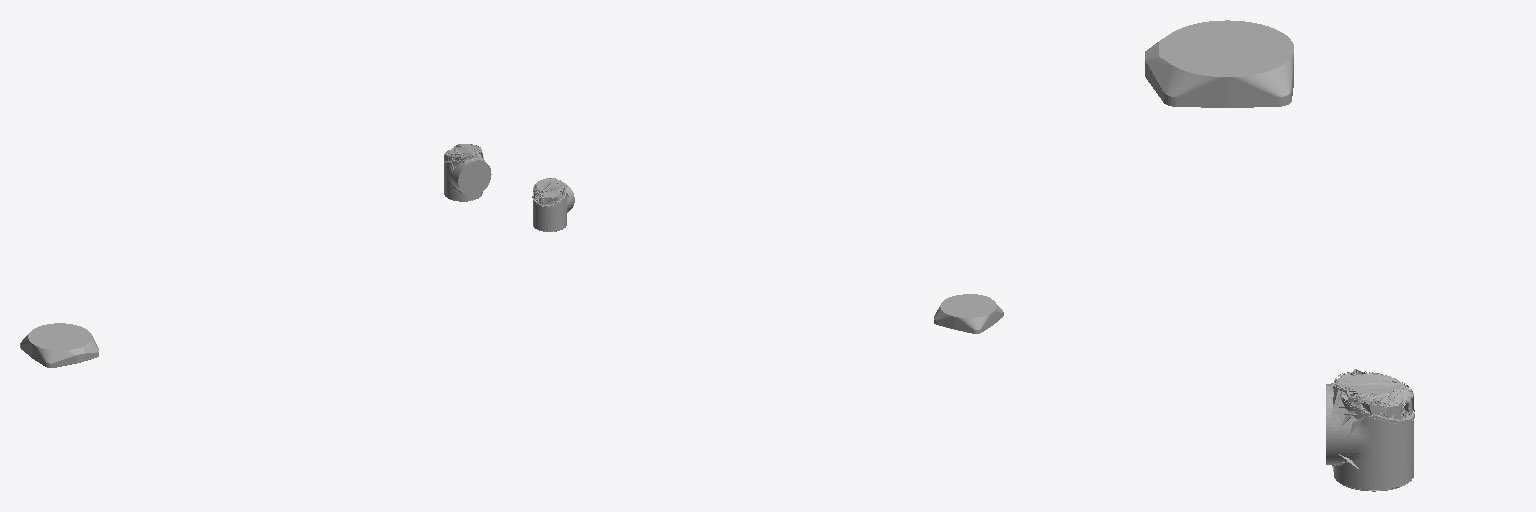
The robot description file, URDF, robot "ur10":
<?xml version="1.0" encoding="utf-8"?>
<!-- =================================================================================== -->
<!-- |    This document was autogenerated by xacro from ur10_joint_limited_robot.urdf.xacro | -->
<!-- |    EDITING THIS FILE BY HAND IS NOT RECOMMENDED                                 | -->
<!-- =================================================================================== -->
<robot name="ur10" xmlns:xacro="http://wiki.ros.org/xacro">
  <gazebo>
    <plugin filename="libgazebo_ros_control.so" name="ros_control">
      <!--robotNamespace>/</robotNamespace-->
      <!--robotSimType>gazebo_ros_control/DefaultRobotHWSim</robotSimType-->
    </plugin>
    <!--
    <plugin name="gazebo_ros_power_monitor_controller" filename="libgazebo_ros_power_monitor.so">
      <alwaysOn>true</alwaysOn>
      <updateRate>1.0</updateRate>
      <timeout>5</timeout>
      <powerStateTopic>power_state</powerStateTopic>
      <powerStateRate>10.0</powerStateRate>
      <fullChargeCapacity>87.78</fullChargeCapacity>
      <dischargeRate>-474</dischargeRate>
      <chargeRate>525</chargeRate>
      <dischargeVoltage>15.52</dischargeVoltage>
      <chargeVoltage>16.41</chargeVoltage>
    </plugin>
-->
  </gazebo>
  <!--
  Author: [author]
  Contributers: [author], [author], [author]
-->
  <!-- measured from model -->
  <link name="base_link">
    <visual>
      <geometry>
        <mesh filename="package://example-robot-data/robots/ur_description/meshes/ur10/visual/base.obj"/>
      </geometry>
      <material name="LightGrey">
        <color rgba="0.7 0.7 0.7 1.0"/>
      </material>
    </visual>
    <collision>
      <geometry>
        <mesh filename="package://example-robot-data/robots/ur_description/meshes/ur10/collision/base.obj"/>
      </geometry>
    </collision>
    <inertial>
      <mass value="4.0"/>
      <origin rpy="0 0 0" xyz="0.0 0.0 0.0"/>
      <inertia ixx="0.0061063308908" ixy="0.0" ixz="0.0" iyy="0.0061063308908" iyz="0.0" izz="0.01125"/>
    </inertial>
  </link>
  <joint name="shoulder_pan_joint" type="revolute">
    <parent link="base_link"/>
    <child link="shoulder_link"/>
    <origin rpy="0.0 0.0 0.0" xyz="0.0 0.0 0.1273"/>
    <axis xyz="0 0 1"/>
    <limit effort="330.0" lower="-3.14159265359" upper="3.14159265359" velocity="2.16"/>
    <dynamics damping="0.0" friction="0.0"/>
  </joint>
  <link name="shoulder_link">
    <visual>
      <geometry>
        <mesh filename="package://example-robot-data/robots/ur_description/meshes/ur10/visual/shoulder.obj"/>
      </geometry>
      <material name="LightGrey">
        <color rgba="0.7 0.7 0.7 1.0"/>
      </material>
    </visual>
    <collision>
      <geometry>
        <mesh filename="package://example-robot-data/robots/ur_description/meshes/ur10/collision/shoulder.obj"/>
      </geometry>
    </collision>
    <inertial>
      <mass value="7.778"/>
      <origin rpy="0 0 0" xyz="0.0 0.0 0.0"/>
      <inertia ixx="0.0314743125769" ixy="0.0" ixz="0.0" iyy="0.0314743125769" iyz="0.0" izz="0.021875625"/>
    </inertial>
  </link>
  <joint name="shoulder_lift_joint" type="revolute">
    <parent link="shoulder_link"/>
    <child link="upper_arm_link"/>
    <origin rpy="0.0 1.57079632679 0.0" xyz="0.0 0.220941 0.0"/>
    <axis xyz="0 1 0"/>
    <limit effort="330.0" lower="-3.14159265359" upper="3.14159265359" velocity="2.16"/>
    <dynamics damping="0.0" friction="0.0"/>
  </joint>
  <link name="upper_arm_link">
    <visual>
      <geometry>
        <mesh filename="package://example-robot-data/robots/ur_description/meshes/ur10/visual/upperarm.obj"/>
      </geometry>
      <material name="LightGrey">
        <color rgba="0.7 0.7 0.7 1.0"/>
      </material>
    </visual>
    <collision>
      <geometry>
        <mesh filename="package://example-robot-data/robots/ur_description/meshes/ur10/collision/upperarm.obj"/>
      </geometry>
    </collision>
    <inertial>
      <mass value="12.93"/>
      <origin rpy="0 0 0" xyz="0.0 0.0 0.306"/>
      <inertia ixx="0.421753803798" ixy="0.0" ixz="0.0" iyy="0.421753803798" iyz="0.0" izz="0.036365625"/>
    </inertial>
  </link>
  <joint name="elbow_joint" type="revolute">
    <parent link="upper_arm_link"/>
    <child link="forearm_link"/>
    <origin rpy="0.0 0.0 0.0" xyz="0.0 -0.1719 0.612"/>
    <axis xyz="0 1 0"/>
    <limit effort="150.0" lower="-3.14159265359" upper="3.14159265359" velocity="3.15"/>
    <dynamics damping="0.0" friction="0.0"/>
  </joint>
  <link name="forearm_link">
    <visual>
      <geometry>
        <mesh filename="package://example-robot-data/robots/ur_description/meshes/ur10/visual/forearm.obj"/>
      </geometry>
      <material name="LightGrey">
        <color rgba="0.7 0.7 0.7 1.0"/>
      </material>
    </visual>
    <collision>
      <geometry>
        <mesh filename="package://example-robot-data/robots/ur_description/meshes/ur10/collision/forearm.obj"/>
      </geometry>
    </collision>
    <inertial>
      <mass value="3.87"/>
      <origin rpy="0 0 0" xyz="0.0 0.0 0.28615"/>
      <inertia ixx="0.111069694097" ixy="0.0" ixz="0.0" iyy="0.111069694097" iyz="0.0" izz="0.010884375"/>
    </inertial>
  </link>
  <joint name="wrist_1_joint" type="revolute">
    <parent link="forearm_link"/>
    <child link="wrist_1_link"/>
    <origin rpy="0.0 1.57079632679 0.0" xyz="0.0 0.0 0.5723"/>
    <axis xyz="0 1 0"/>
    <limit effort="54.0" lower="-3.14159265359" upper="3.14159265359" velocity="3.2"/>
    <dynamics damping="0.0" friction="0.0"/>
  </joint>
  <link name="wrist_1_link">
    <visual>
      <geometry>
        <mesh filename="package://example-robot-data/robots/ur_description/meshes/ur10/visual/wrist1.obj"/>
      </geometry>
      <material name="LightGrey">
        <color rgba="0.7 0.7 0.7 1.0"/>
      </material>
    </visual>
    <collision>
      <geometry>
        <mesh filename="package://example-robot-data/robots/ur_description/meshes/ur10/collision/wrist1.obj"/>
      </geometry>
    </collision>
    <inertial>
      <mass value="1.96"/>
      <origin rpy="0 0 0" xyz="0.0 0.0 0.0"/>
      <inertia ixx="0.0051082479567" ixy="0.0" ixz="0.0" iyy="0.0051082479567" iyz="0.0" izz="0.0055125"/>
    </inertial>
  </link>
  <joint name="wrist_2_joint" type="revolute">
    <parent link="wrist_1_link"/>
    <child link="wrist_2_link"/>
    <origin rpy="0.0 0.0 0.0" xyz="0.0 0.1149 0.0"/>
    <axis xyz="0 0 1"/>
    <limit effort="54.0" lower="-3.14159265359" upper="3.14159265359" velocity="3.2"/>
    <dynamics damping="0.0" friction="0.0"/>
  </joint>
  <link name="wrist_2_link">
    <visual>
      <geometry>
        <mesh filename="package://example-robot-data/robots/ur_description/meshes/ur10/visual/wrist2.obj"/>
      </geometry>
      <material name="LightGrey">
        <color rgba="0.7 0.7 0.7 1.0"/>
      </material>
    </visual>
    <collision>
      <geometry>
        <mesh filename="package://example-robot-data/robots/ur_description/meshes/ur10/collision/wrist2.obj"/>
      </geometry>
    </collision>
    <inertial>
      <mass value="1.96"/>
      <origin rpy="0 0 0" xyz="0.0 0.0 0.0"/>
      <inertia ixx="0.0051082479567" ixy="0.0" ixz="0.0" iyy="0.0051082479567" iyz="0.0" izz="0.0055125"/>
    </inertial>
  </link>
  <joint name="wrist_3_joint" type="revolute">
    <parent link="wrist_2_link"/>
    <child link="wrist_3_link"/>
    <origin rpy="0.0 0.0 0.0" xyz="0.0 0.0 0.1157"/>
    <axis xyz="0 1 0"/>
    <limit effort="54.0" lower="-3.14159265359" upper="3.14159265359" velocity="3.2"/>
    <dynamics damping="0.0" friction="0.0"/>
  </joint>
  <link name="wrist_3_link">
    <visual>
      <geometry>
        <mesh filename="package://example-robot-data/robots/ur_description/meshes/ur10/visual/wrist3.obj"/>
      </geometry>
      <material name="LightGrey">
        <color rgba="0.7 0.7 0.7 1.0"/>
      </material>
    </visual>
    <collision>
      <geometry>
        <mesh filename="package://example-robot-data/robots/ur_description/meshes/ur10/collision/wrist3.obj"/>
      </geometry>
    </collision>
    <inertial>
      <mass value="0.202"/>
      <origin rpy="0 0 0" xyz="0.0 0.0 0.0"/>
      <inertia ixx="0.000526462289415" ixy="0.0" ixz="0.0" iyy="0.000526462289415" iyz="0.0" izz="0.000568125"/>
    </inertial>
  </link>
  <joint name="ee_fixed_joint" type="fixed">
    <parent link="wrist_3_link"/>
    <child link="ee_link"/>
    <origin rpy="0.0 0.0 1.57079632679" xyz="0.0 0.0922 0.0"/>
  </joint>
  <link name="ee_link">
    <inertial>
      <mass value="0.0"/>
      <origin rpy="0 0 0" xyz="0 0 0"/>
      <inertia ixx="0" ixy="0" ixz="0" iyy="0" iyz="0" izz="0"/>
    </inertial>
    <collision>
      <geometry>
        <box size="0.01 0.01 0.01"/>
      </geometry>
      <origin rpy="0 0 0" xyz="-0.01 0 0"/>
    </collision>
  </link>
  <transmission name="shoulder_pan_trans">
    <type>transmission_interface/SimpleTransmission</type>
    <joint name="shoulder_pan_joint">
      <hardwareInterface>hardware_interface/PositionJointInterface</hardwareInterface>
    </joint>
    <actuator name="shoulder_pan_motor">
      <mechanicalReduction>1</mechanicalReduction>
    </actuator>
  </transmission>
  <transmission name="shoulder_lift_trans">
    <type>transmission_interface/SimpleTransmission</type>
    <joint name="shoulder_lift_joint">
      <hardwareInterface>hardware_interface/PositionJointInterface</hardwareInterface>
    </joint>
    <actuator name="shoulder_lift_motor">
      <mechanicalReduction>1</mechanicalReduction>
    </actuator>
  </transmission>
  <transmission name="elbow_trans">
    <type>transmission_interface/SimpleTransmission</type>
    <joint name="elbow_joint">
      <hardwareInterface>hardware_interface/PositionJointInterface</hardwareInterface>
    </joint>
    <actuator name="elbow_motor">
      <mechanicalReduction>1</mechanicalReduction>
    </actuator>
  </transmission>
  <transmission name="wrist_1_trans">
    <type>transmission_interface/SimpleTransmission</type>
    <joint name="wrist_1_joint">
      <hardwareInterface>hardware_interface/PositionJointInterface</hardwareInterface>
    </joint>
    <actuator name="wrist_1_motor">
      <mechanicalReduction>1</mechanicalReduction>
    </actuator>
  </transmission>
  <transmission name="wrist_2_trans">
    <type>transmission_interface/SimpleTransmission</type>
    <joint name="wrist_2_joint">
      <hardwareInterface>hardware_interface/PositionJointInterface</hardwareInterface>
    </joint>
    <actuator name="wrist_2_motor">
      <mechanicalReduction>1</mechanicalReduction>
    </actuator>
  </transmission>
  <transmission name="wrist_3_trans">
    <type>transmission_interface/SimpleTransmission</type>
    <joint name="wrist_3_joint">
      <hardwareInterface>hardware_interface/PositionJointInterface</hardwareInterface>
    </joint>
    <actuator name="wrist_3_motor">
      <mechanicalReduction>1</mechanicalReduction>
    </actuator>
  </transmission>
  <gazebo reference="shoulder_link">
    <selfCollide>true</selfCollide>
  </gazebo>
  <gazebo reference="upper_arm_link">
    <selfCollide>true</selfCollide>
  </gazebo>
  <gazebo reference="forearm_link">
    <selfCollide>true</selfCollide>
  </gazebo>
  <gazebo reference="wrist_1_link">
    <selfCollide>true</selfCollide>
  </gazebo>
  <gazebo reference="wrist_3_link">
    <selfCollide>true</selfCollide>
  </gazebo>
  <gazebo reference="wrist_2_link">
    <selfCollide>true</selfCollide>
  </gazebo>
  <gazebo reference="ee_link">
    <selfCollide>true</selfCollide>
  </gazebo>
  <!-- ROS base_link to UR 'Base' Coordinates transform -->
  <link name="base">
    <inertial>
      <mass value="0.0"/>
      <origin rpy="0 0 0" xyz="0 0 0"/>
      <inertia ixx="0" ixy="0" ixz="0" iyy="0" iyz="0" izz="0"/>
    </inertial>
  </link>
  <joint name="base_link-base_fixed_joint" type="fixed">
    <!-- NOTE: this rotation is only needed as long as base_link itself is
                 not corrected wrt the real robot (ie: rotated over 180
                 degrees)
      -->
    <origin rpy="0 0 -3.14159265359" xyz="0 0 0"/>
    <parent link="base_link"/>
    <child link="base"/>
  </joint>
  <!-- Frame coincident with all-zeros TCP on UR controller -->
  <link name="tool0">
    <inertial>
      <mass value="0.0"/>
      <origin rpy="0 0 0" xyz="0 0 0"/>
      <inertia ixx="0" ixy="0" ixz="0" iyy="0" iyz="0" izz="0"/>
    </inertial>
  </link>
  <joint name="wrist_3_link-tool0_fixed_joint" type="fixed">
    <origin rpy="-1.57079632679 0 0" xyz="0 0.0922 0"/>
    <parent link="wrist_3_link"/>
    <child link="tool0"/>
  </joint>
  <link name="world"/>
  <joint name="world_joint" type="fixed">
    <parent link="world"/>
    <child link="base_link"/>
    <origin rpy="0.0 0.0 0.0" xyz="0.0 0.0 0.0"/>
  </joint>
</robot>

--- Render facts (derived) ---
Views: 3 orthographic renders of the robot side by side, from view 1: azimuth 30°, elevation 25°; view 2: azimuth 150°, elevation 25°; view 3: azimuth 270°, elevation 25°.
Robot: ur10 — 11 links, 10 joints (6 revolute, 4 fixed); root link world; default pose: every joint at zero.
Visible links, largest first — view 1: base_link, wrist_1_link; view 2: base_link, wrist_1_link; view 3: base_link, wrist_1_link.
Link boxes in pixels (bbox=[...]): base_link: bbox=[20, 323, 98, 367]; wrist_1_link: bbox=[444, 144, 491, 201]; base_link: bbox=[934, 294, 1003, 333]; wrist_1_link: bbox=[532, 178, 574, 231]; base_link: bbox=[1145, 20, 1293, 107]; wrist_1_link: bbox=[1326, 369, 1414, 491].
Bounding box of the posed robot: 1.3 × 0.3018 × 0.1841 m (x, y, z).
2 mesh visuals loaded from 7 distinct referenced files (2 OBJ); not drawn: 5 (reference not matched to a file when rendering).